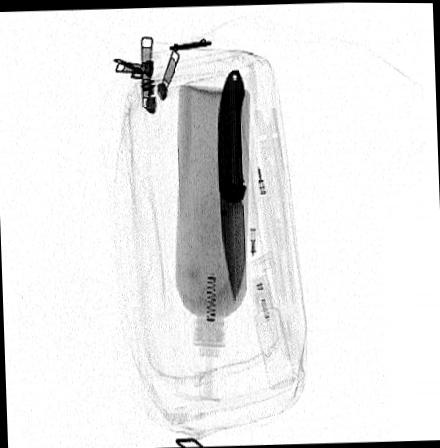Knife: (215, 68, 247, 304)
